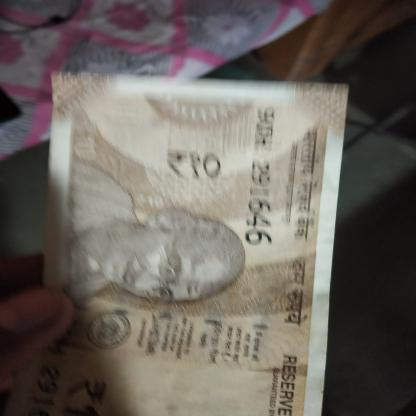New10Front: (52, 72, 317, 416)
